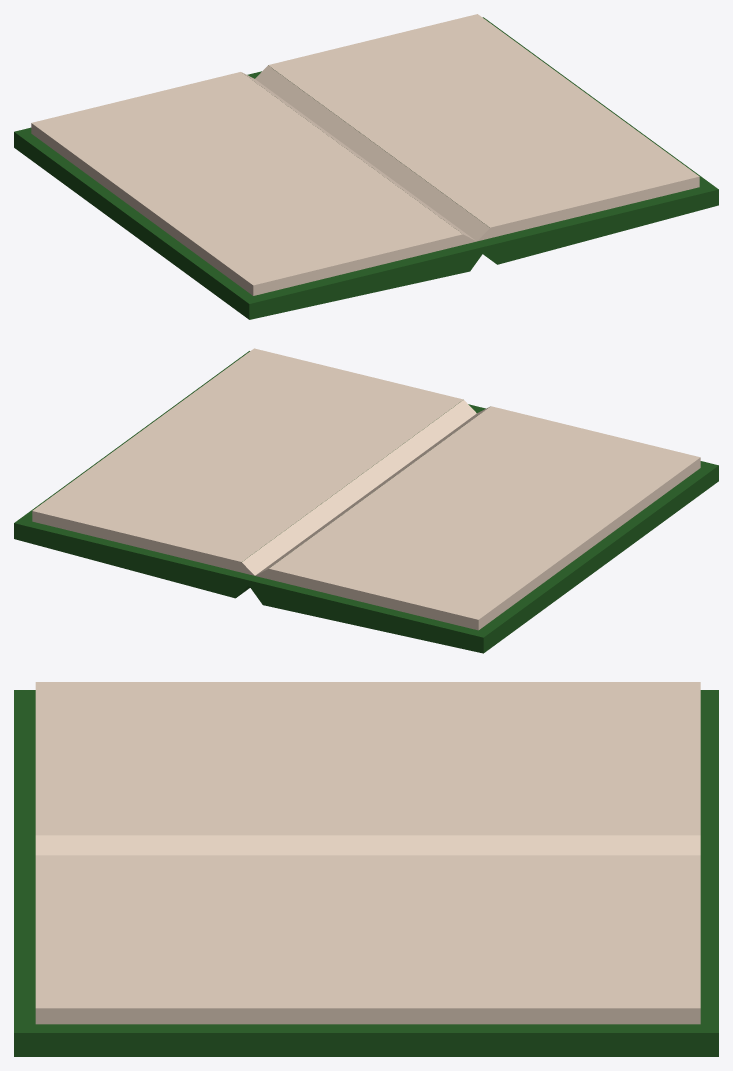
The model's file is pashalka1.fbx.
The picture shows the model from 3 angles, top to bottom: view 1: azimuth 30°, elevation 25°; view 2: azimuth 150°, elevation 25°; view 3: azimuth 270°, elevation 25°; orthographic projection. The views are drawn at different scales.
Visible parts, largest first — view 1: Cube; view 2: Cube; view 3: Cube.
Part boxes in pixels (x1,y1,x2,y2): Cube: (14,14,718,319); Cube: (14,348,718,653); Cube: (14,682,718,1056).
Bounding box in the file's own units: 275 × 17.92 × 239.
